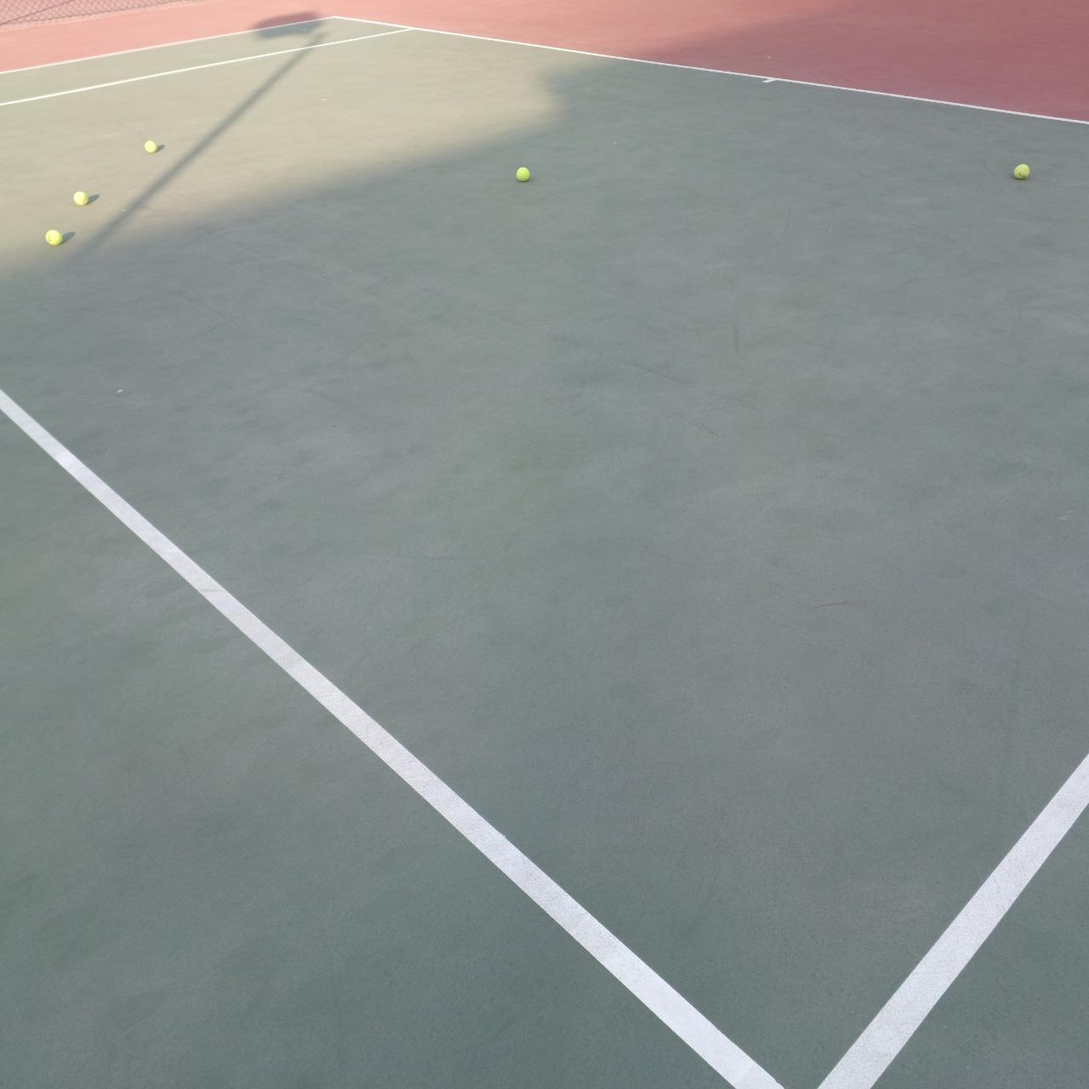tennis-ball: (43, 227, 63, 246), (1012, 161, 1030, 180), (514, 164, 530, 182), (71, 189, 87, 205), (142, 138, 157, 153)
